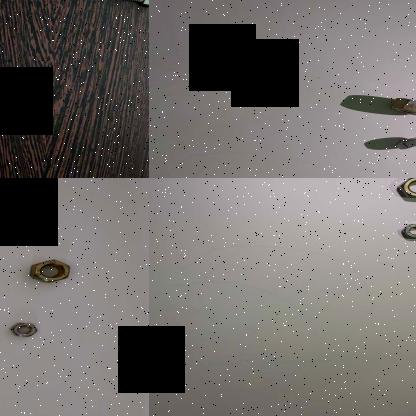Bolts: (108, 0, 149, 10)
NUTS: (28, 257, 70, 285), (373, 93, 416, 119), (387, 178, 416, 202), (383, 134, 416, 154), (5, 320, 40, 338), (396, 219, 416, 243)
